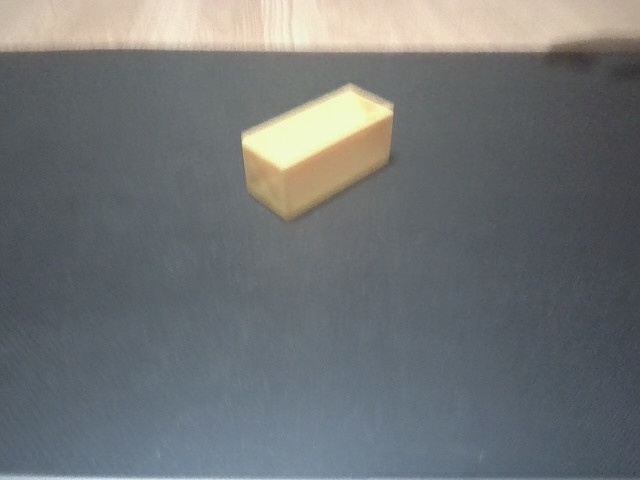YellowSample: (238, 82, 396, 222)
